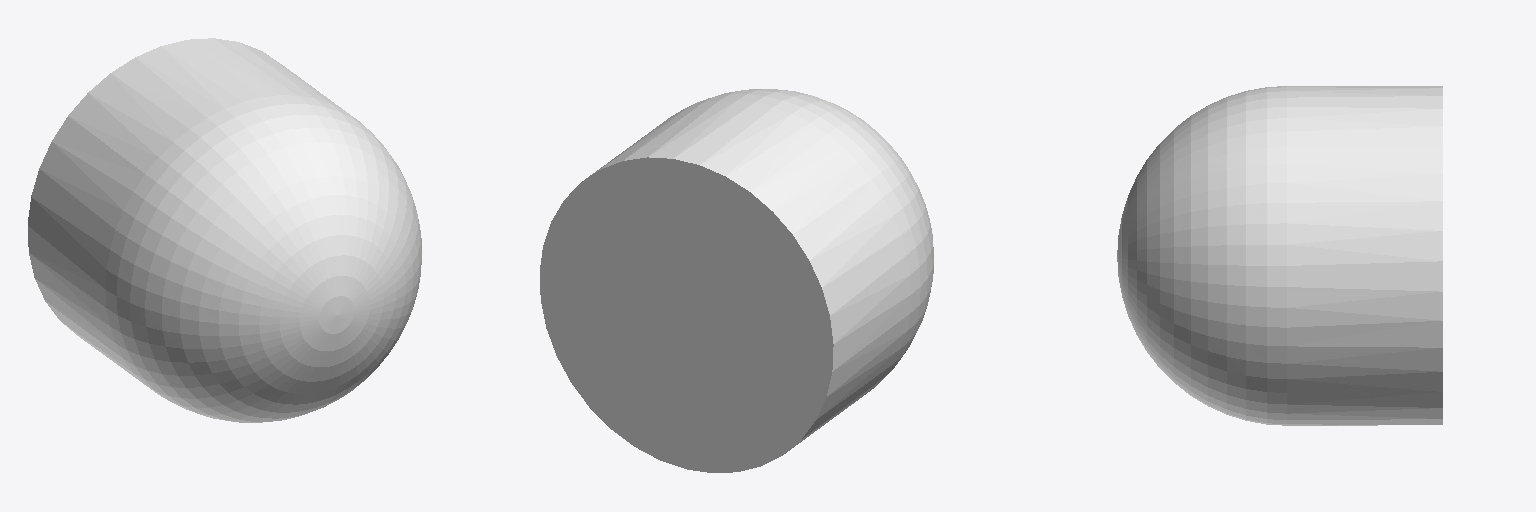
The model's file is link_3.0_tip.obj.
3 renders of one model, left to right at view 1: azimuth 30°, elevation 25°; view 2: azimuth 150°, elevation 25°; view 3: azimuth 270°, elevation 25°, orthographic.
Visible parts, largest first — view 1: link_3.0_tip; view 2: link_3.0_tip; view 3: link_3.0_tip.
Part boxes in pixels (x1,y1,x2,y2): link_3.0_tip: (28,38,421,422); link_3.0_tip: (540,89,933,472); link_3.0_tip: (1117,86,1442,425).
Size of the model in its own units: 0.024 by 0.024 by 0.023.